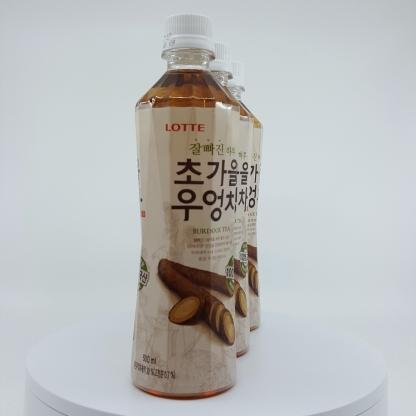----------500ML: (131, 13, 240, 400)
